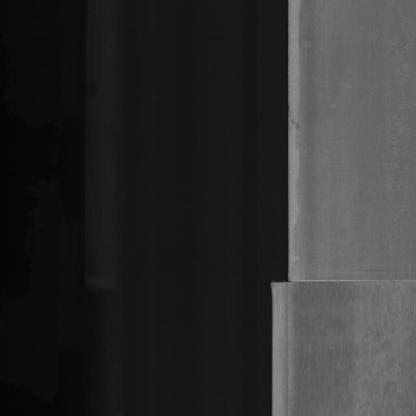oil_spot: (289, 99, 302, 145)
welding_line: (271, 270, 415, 296)
